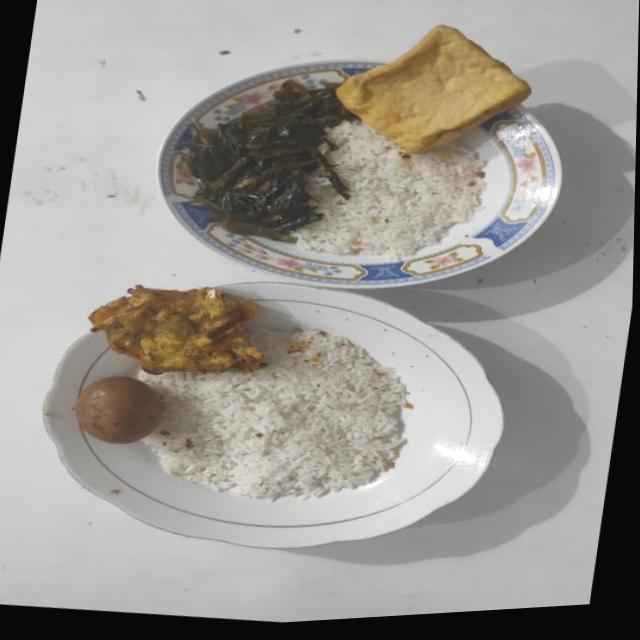nasi_putih: (142, 328, 406, 501), (294, 120, 486, 262)
tahu_goreng: (336, 24, 530, 154)
tumis_kangkung: (184, 80, 355, 242)
